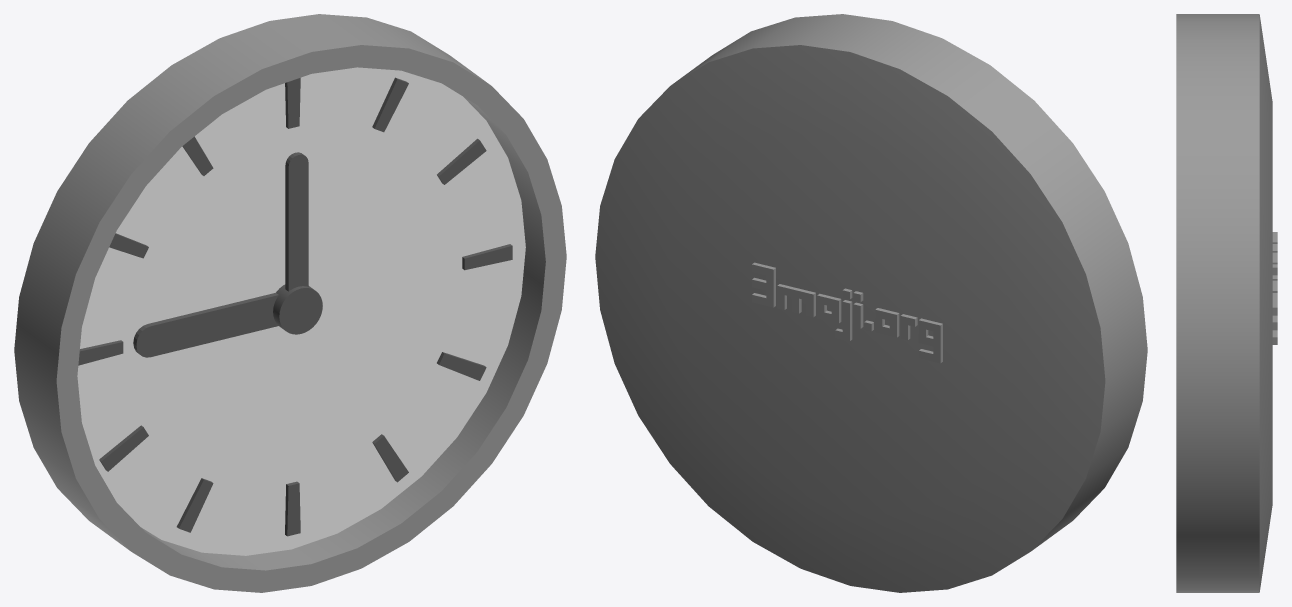
Rendered from nine_oclock.fbx.
3 renders of one model, left to right at view 1: azimuth 30°, elevation 25°; view 2: azimuth 150°, elevation 25°; view 3: azimuth 270°, elevation 25°, orthographic.
Parts seen in each view (by area): view 1: Circle.2483; view 2: Circle.2483; view 3: Circle.2483.
Part boxes in pixels (x1,y1,x2,y2): Circle.2483: (14,14,566,592); Circle.2483: (595,14,1147,592); Circle.2483: (1176,14,1277,592).
Bounding box in the file's own units: 233 × 233 × 40.69.
Materials: 1 (1 with a texture image).
